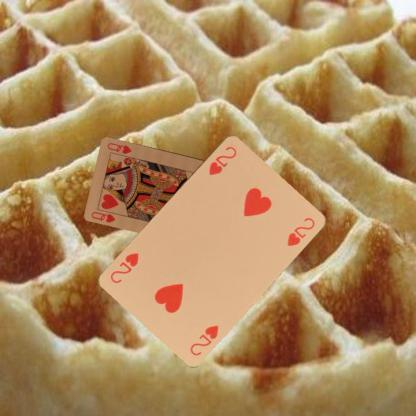2h: (187, 322, 220, 357), (206, 143, 238, 176)
Qh: (89, 209, 117, 224)
